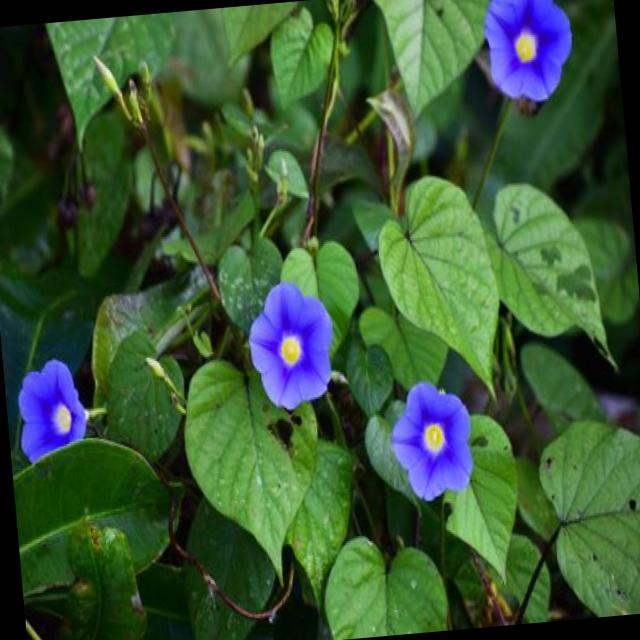ipomoea: (239, 274, 342, 418), (382, 374, 480, 509), (476, 0, 581, 114), (10, 351, 94, 469)
